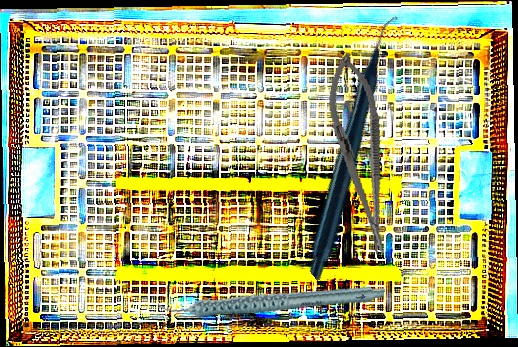Handpiece: (218, 15, 495, 282), (156, 252, 386, 346)
Needle Holder: (318, 48, 404, 261)
